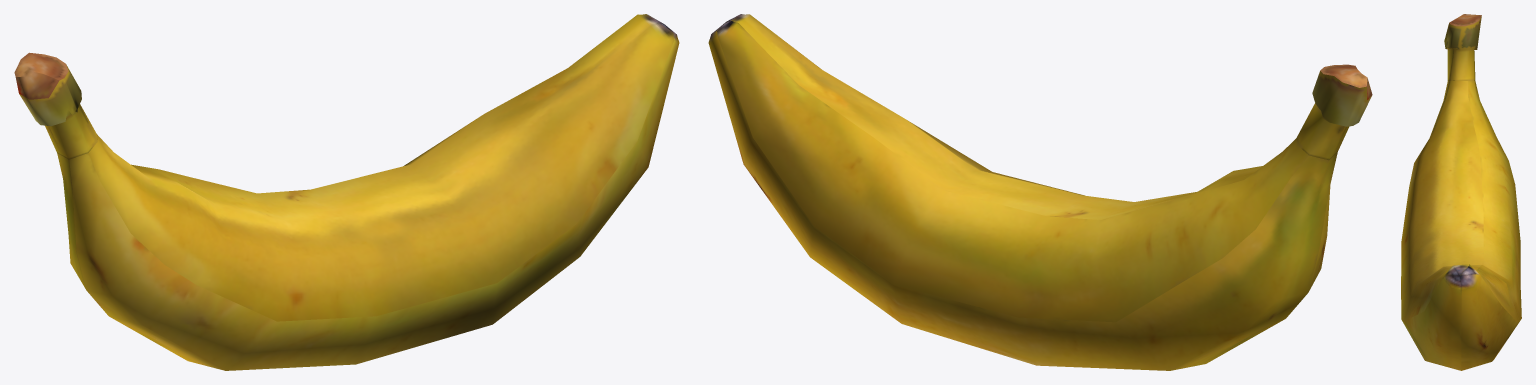
File: banana_part_3.FBX
3 renders of one model, left to right at view 1: azimuth 30°, elevation 25°; view 2: azimuth 150°, elevation 25°; view 3: azimuth 270°, elevation 25°, orthographic. The views are drawn at different scales.
Parts seen in each view (by area): view 1: banana_part_3; view 2: banana_part_3; view 3: banana_part_3.
Part boxes in pixels (x1,y1,x2,y2): banana_part_3: (14, 14, 679, 370); banana_part_3: (708, 14, 1372, 370); banana_part_3: (1401, 14, 1521, 370).
Bounding box in the file's own units: 0.5183 × 0.2735 × 0.1311.
